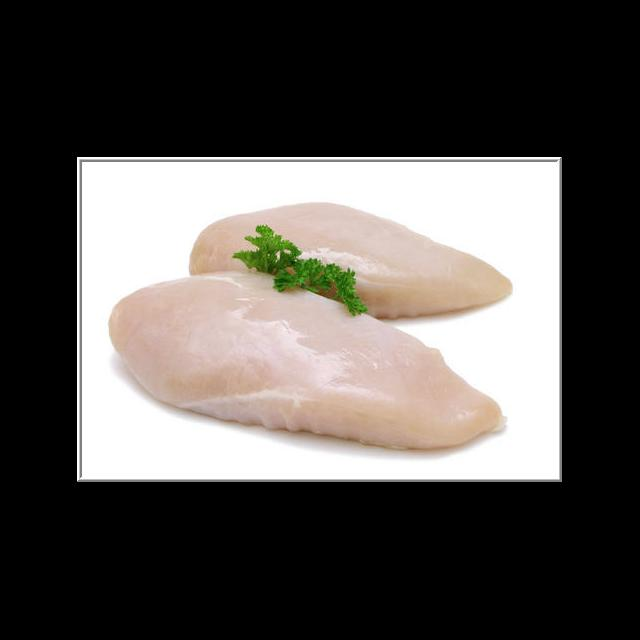chicken: (108, 269, 507, 452), (188, 200, 514, 320)
